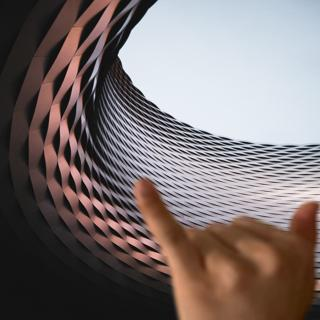HAVE: (126, 162, 320, 320)
